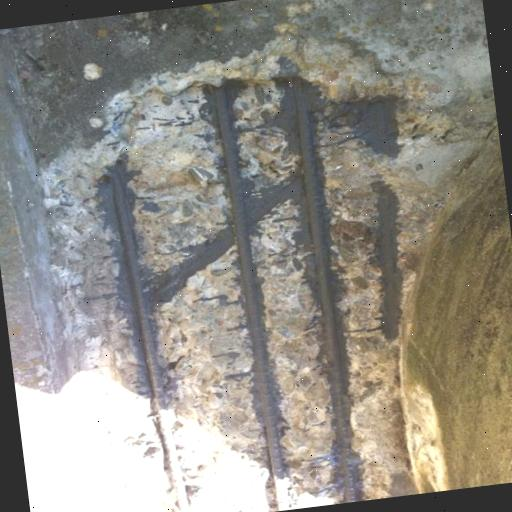spalling: (21, 29, 452, 512)
